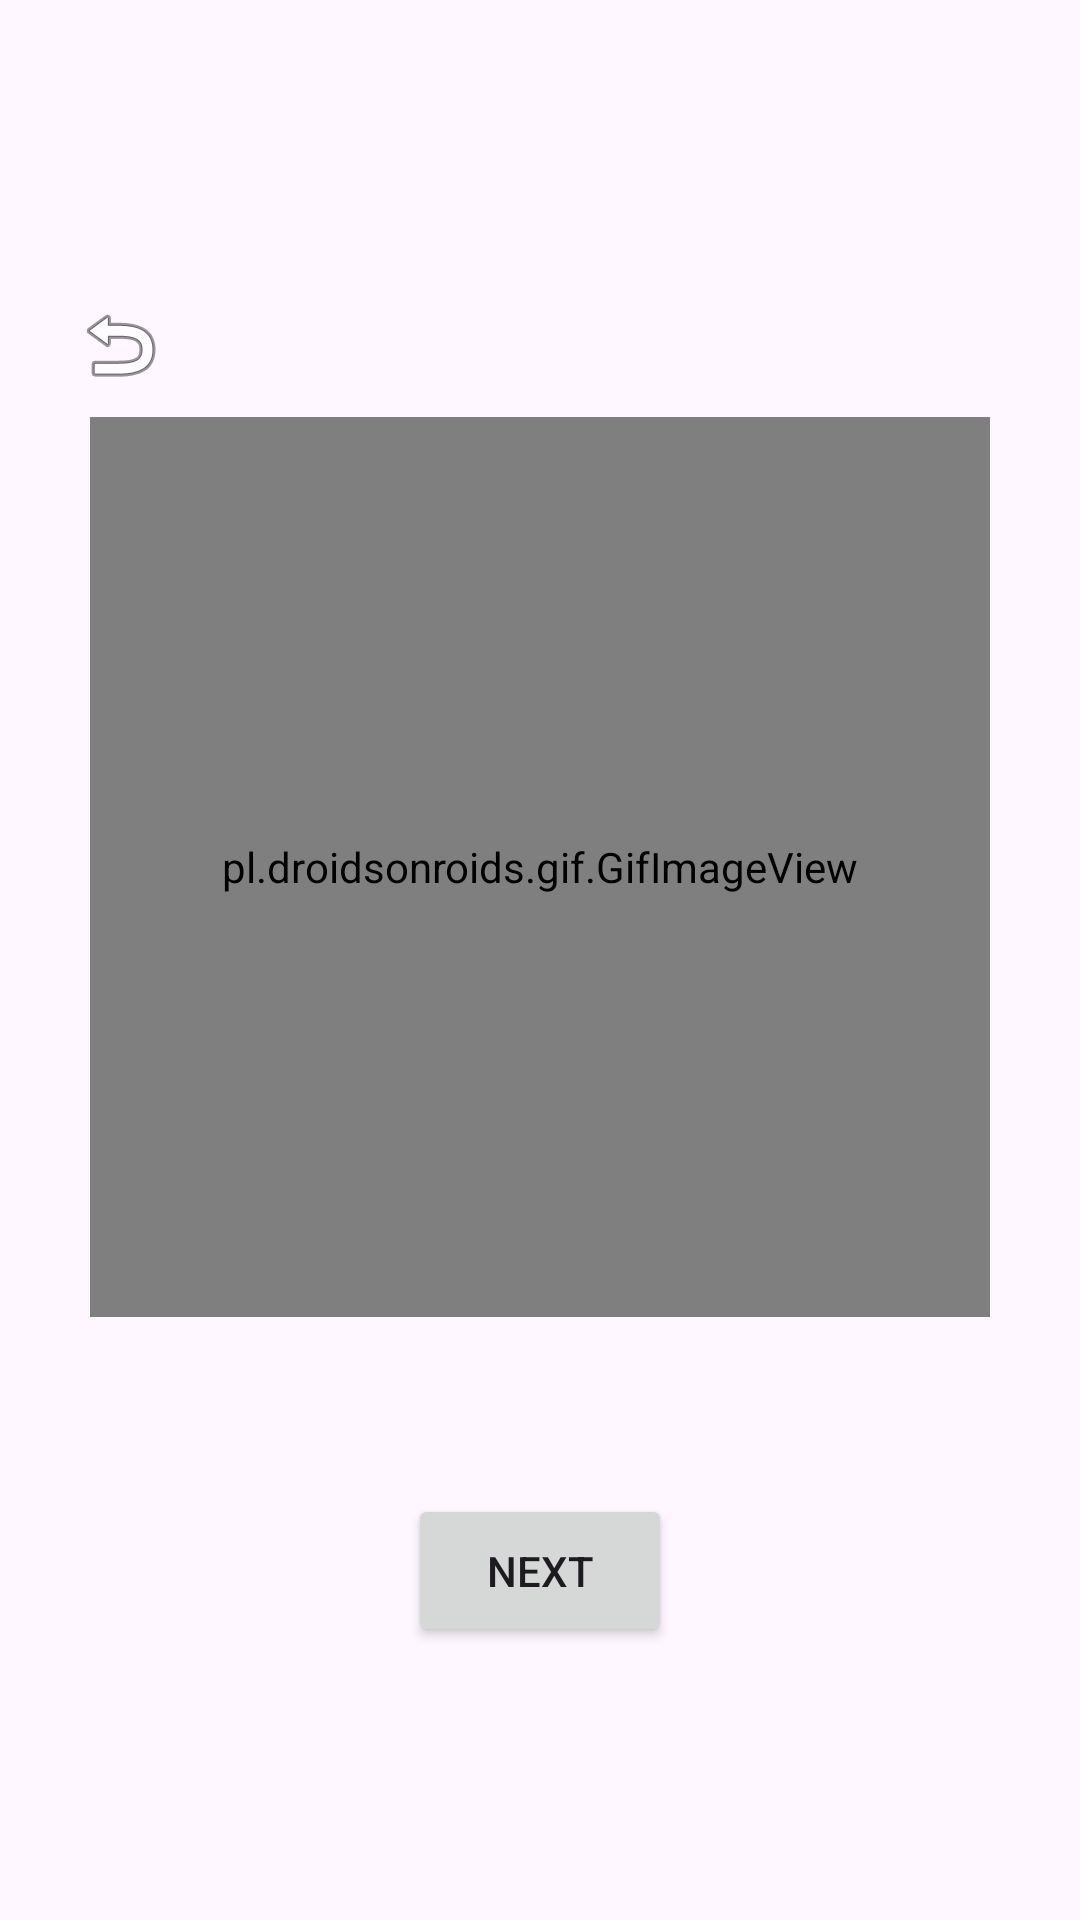

Where icons sit on this 1080 × 1920 app screen, as (x1, y1, x2, y2):
revert: (87, 314, 156, 377)
